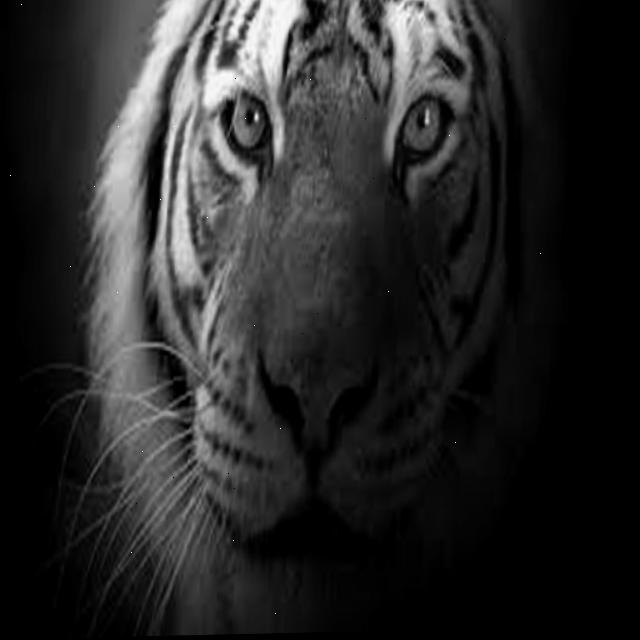Tiger: (23, 0, 572, 638)
